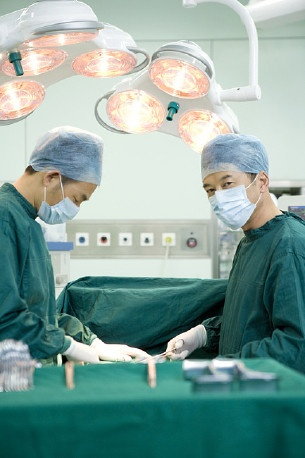Mask: (200, 173, 257, 229)
